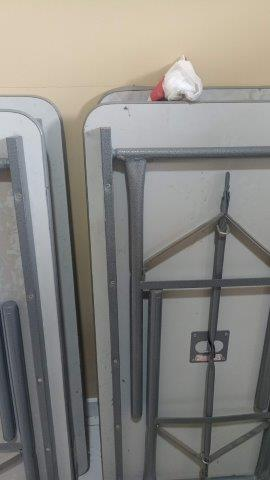plastik: (146, 54, 202, 104)
